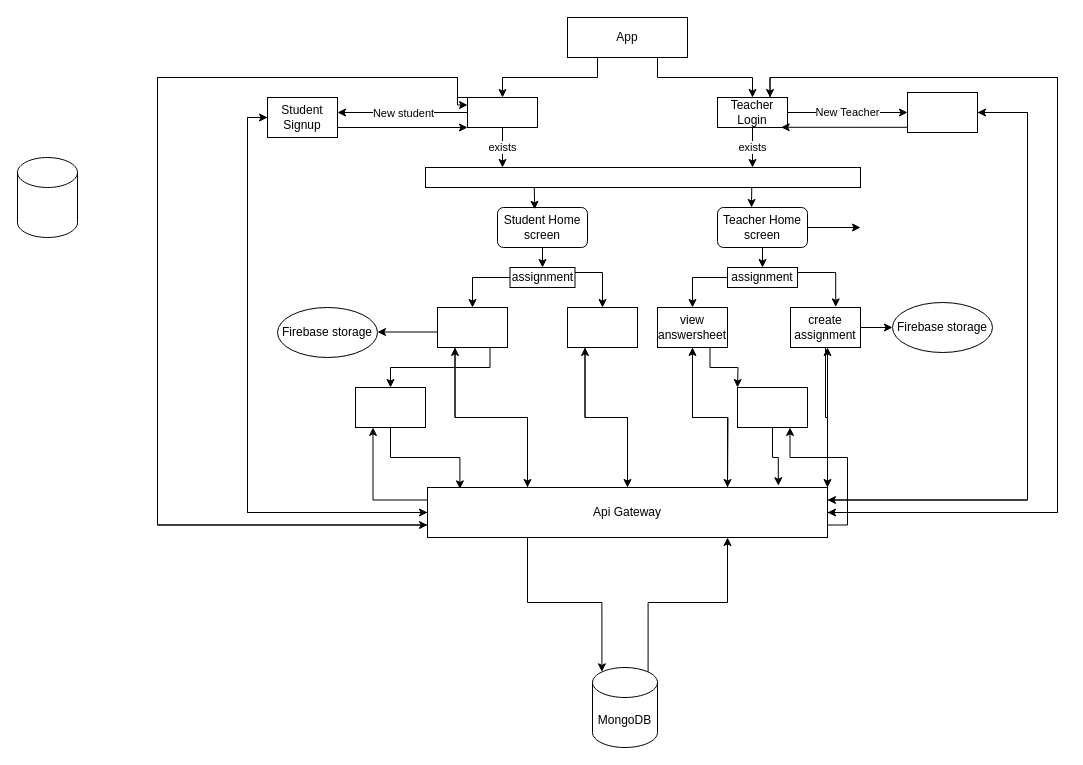
Image size: 1083x765. Some labels were removed from this diagram. The centre of each missing label's shape, as x and y in pixels:
add marks and remarks: pixel 772 407
Authentication: pixel 642 177
Student Login: pixel 502 112
submit answersheet: pixel 472 327
Teacher Signup: pixel 942 112
view assignment: pixel 602 327
view marks, remarks: pixel 390 407
